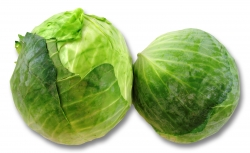cabbage: (10, 9, 135, 149), (131, 27, 243, 147)
